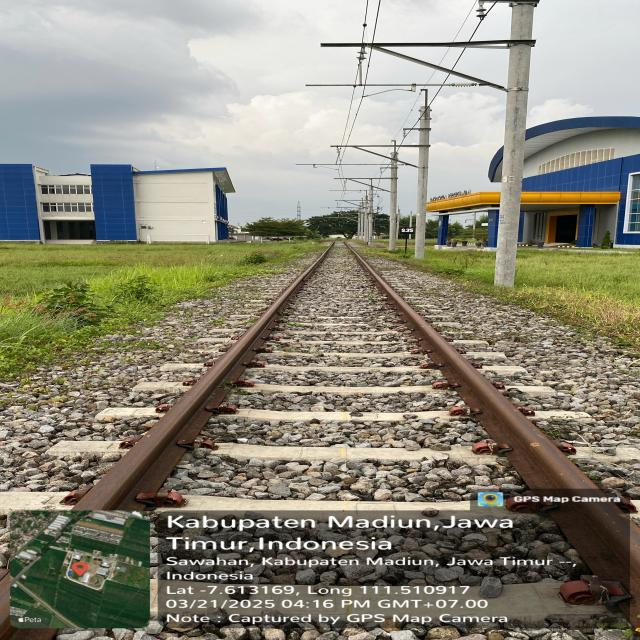rail-detection: (344, 241, 640, 587), (73, 240, 335, 510)
